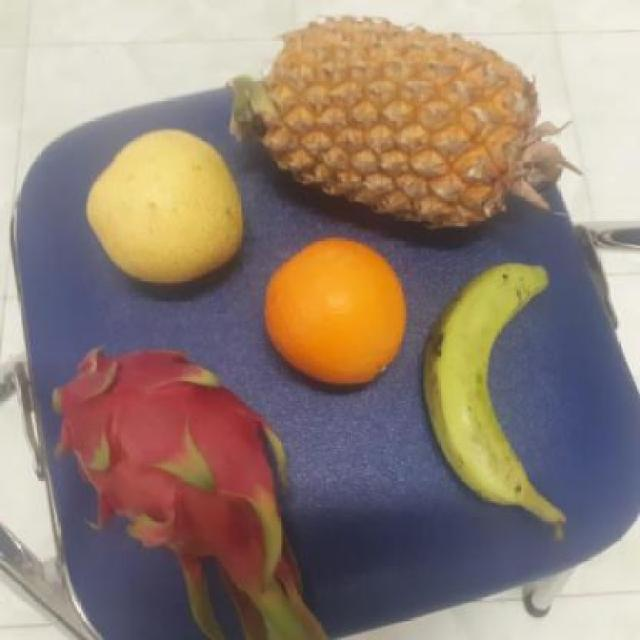banana: (418, 264, 558, 508)
dragon fruit: (49, 347, 297, 568)
guava: (81, 133, 244, 285), (258, 240, 410, 391)
pineapple: (237, 19, 551, 238)
